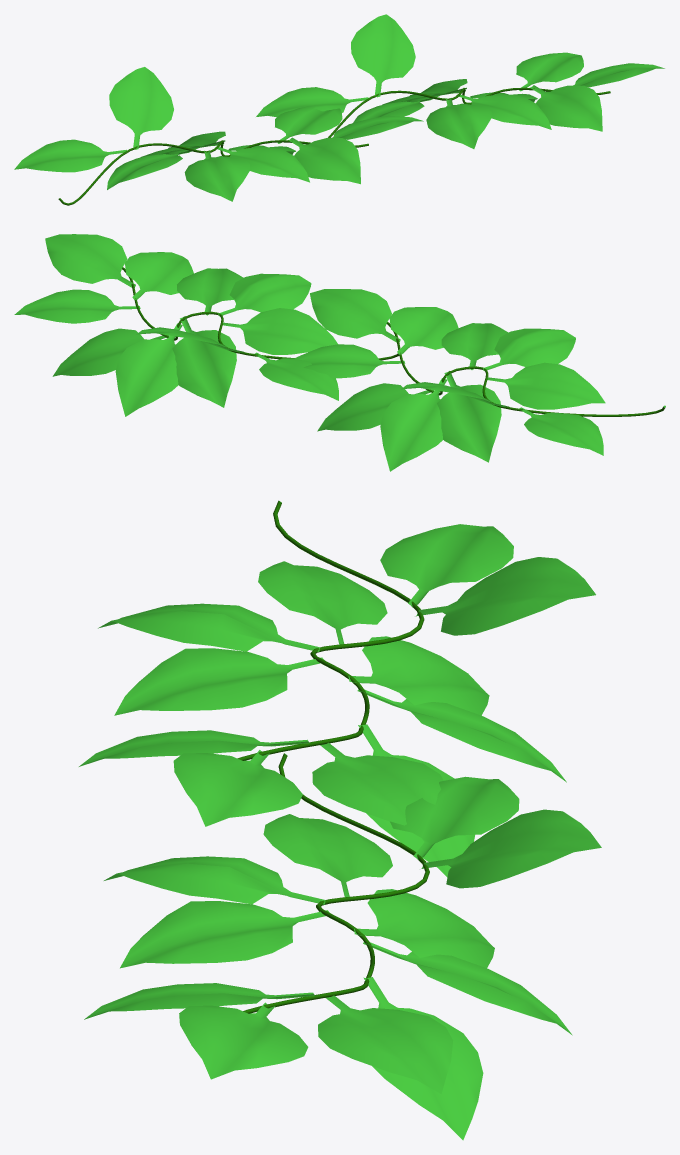
The model's file is green_vines_long.fbx.
The picture shows the model from 3 angles, top to bottom: view 1: azimuth 30°, elevation 25°; view 2: azimuth 150°, elevation 25°; view 3: azimuth 270°, elevation 25°; orthographic projection. The views are drawn at different scales.
Visible parts, largest first — view 1: Vine1; view 2: Vine1; view 3: Vine1.
Boxes of the visible parts, x1=… form: Vine1: x1=14, y1=14, x2=664, y2=205; Vine1: x1=14, y1=234, x2=665, y2=471; Vine1: x1=79, y1=500, x2=601, y2=1140.
Bounding box in the file's own units: 2403 × 396 × 924.
